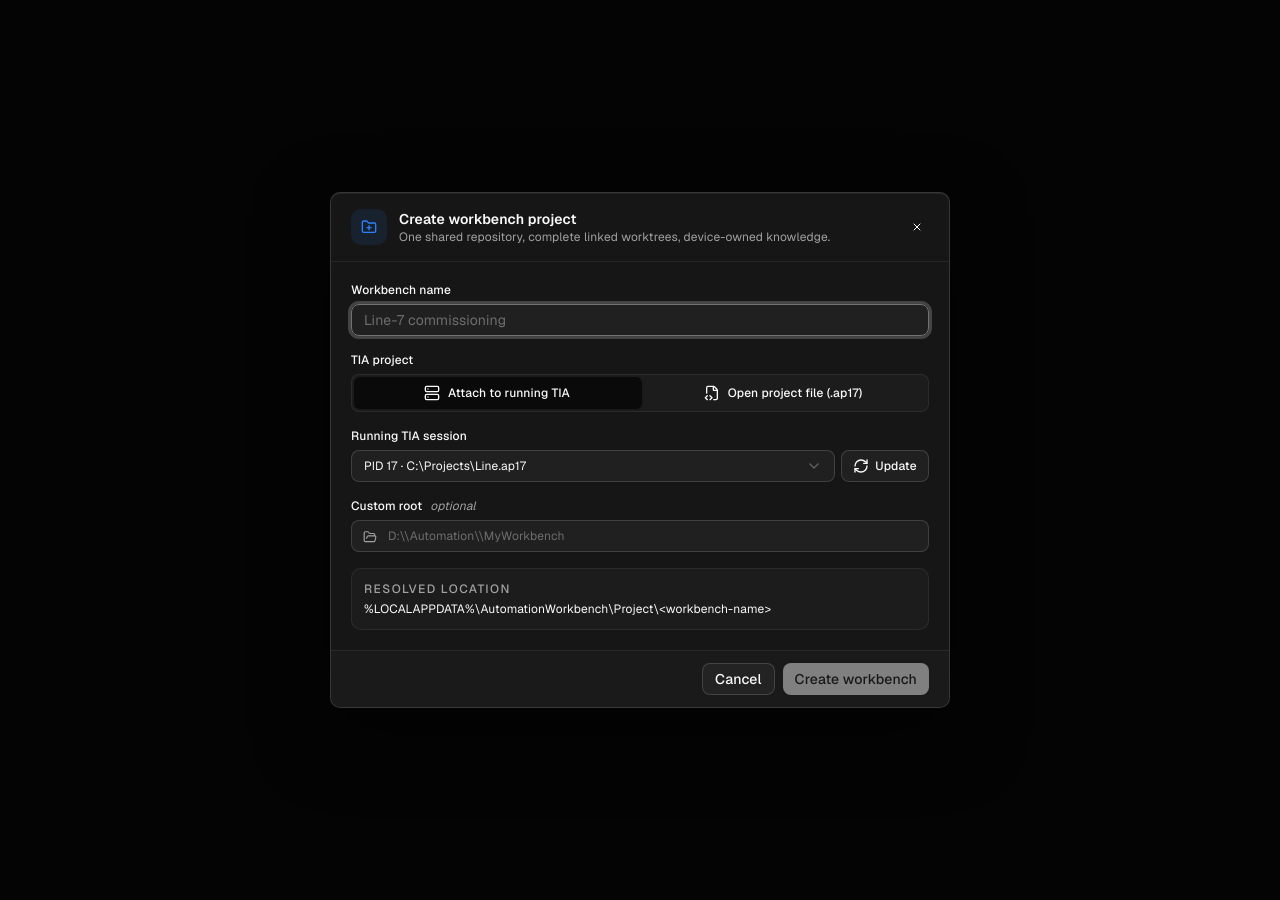
Test case: CreateWorkbenchDialog › fills the project path from the native file picker
The image size is (1280, 900).
Click the radio button labelled "Open project file (.ap17)". click: (783, 393)
box: x1=640 y1=377 x2=926 y2=409
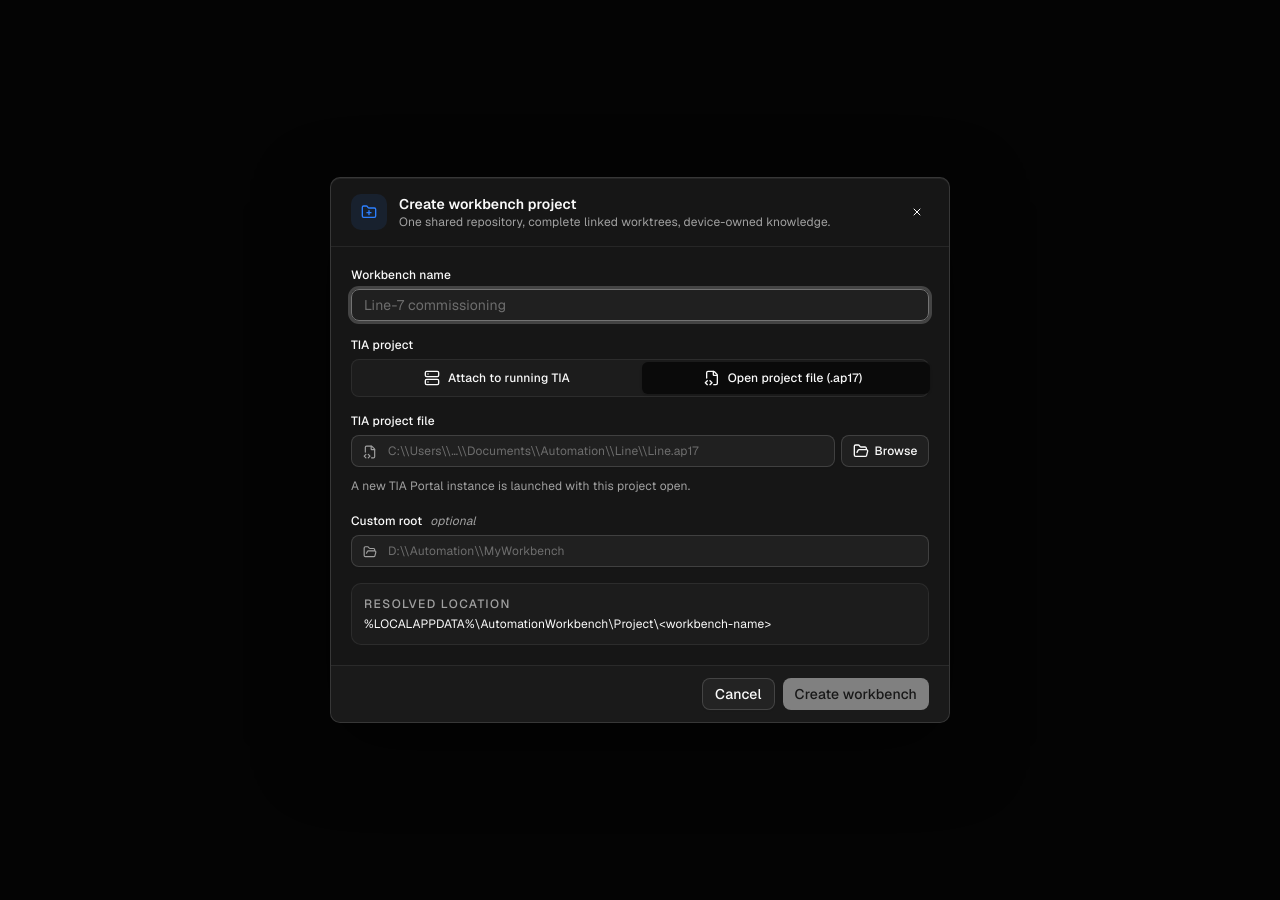
Click the button with aria-label "Browse for TIA project file". click: (885, 451)
box: x1=841 y1=435 x2=929 y2=467
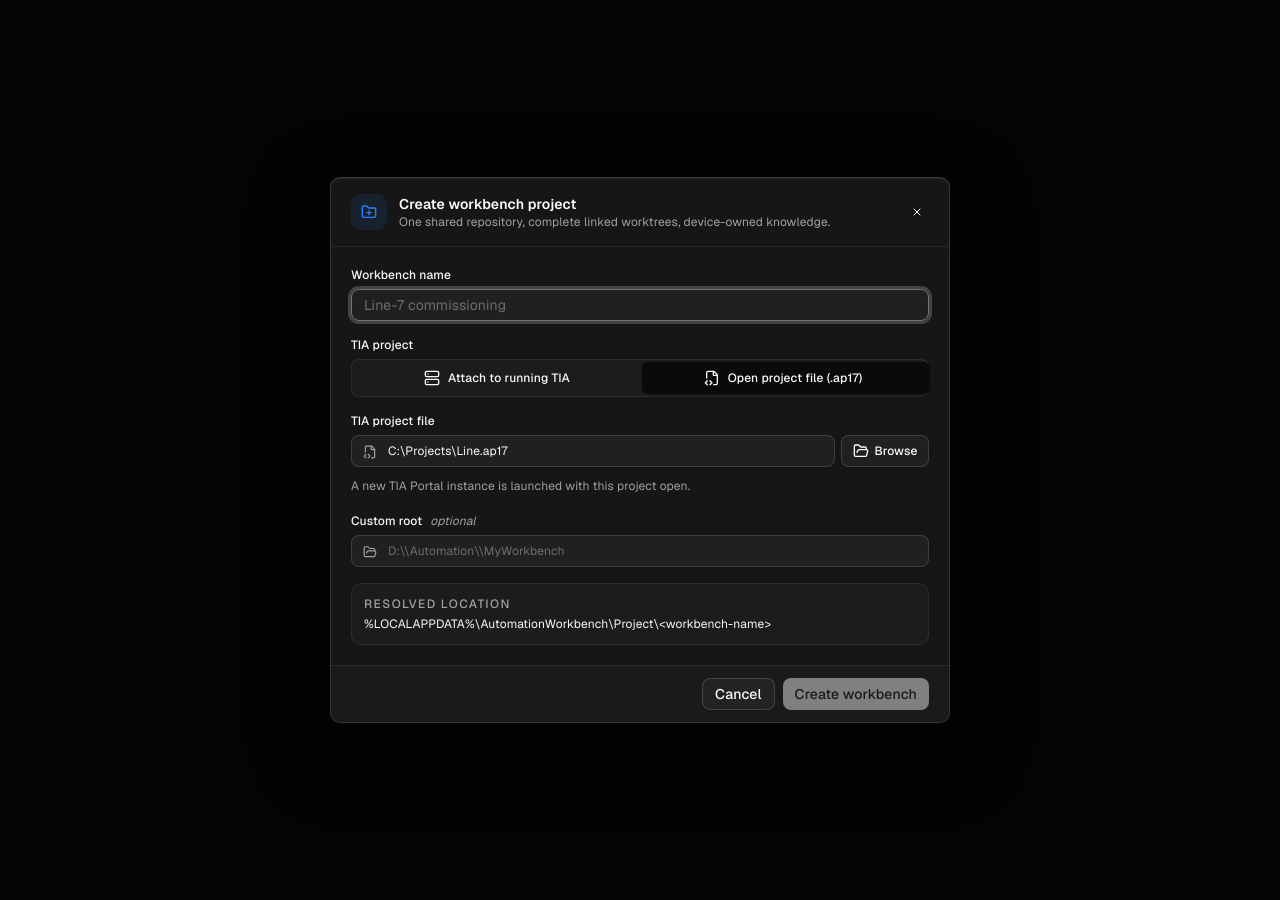
Now the field labelled "TIA project file" holds "C:\\Projects\\Line.ap17", box x1=351 y1=435 x2=835 y2=467
